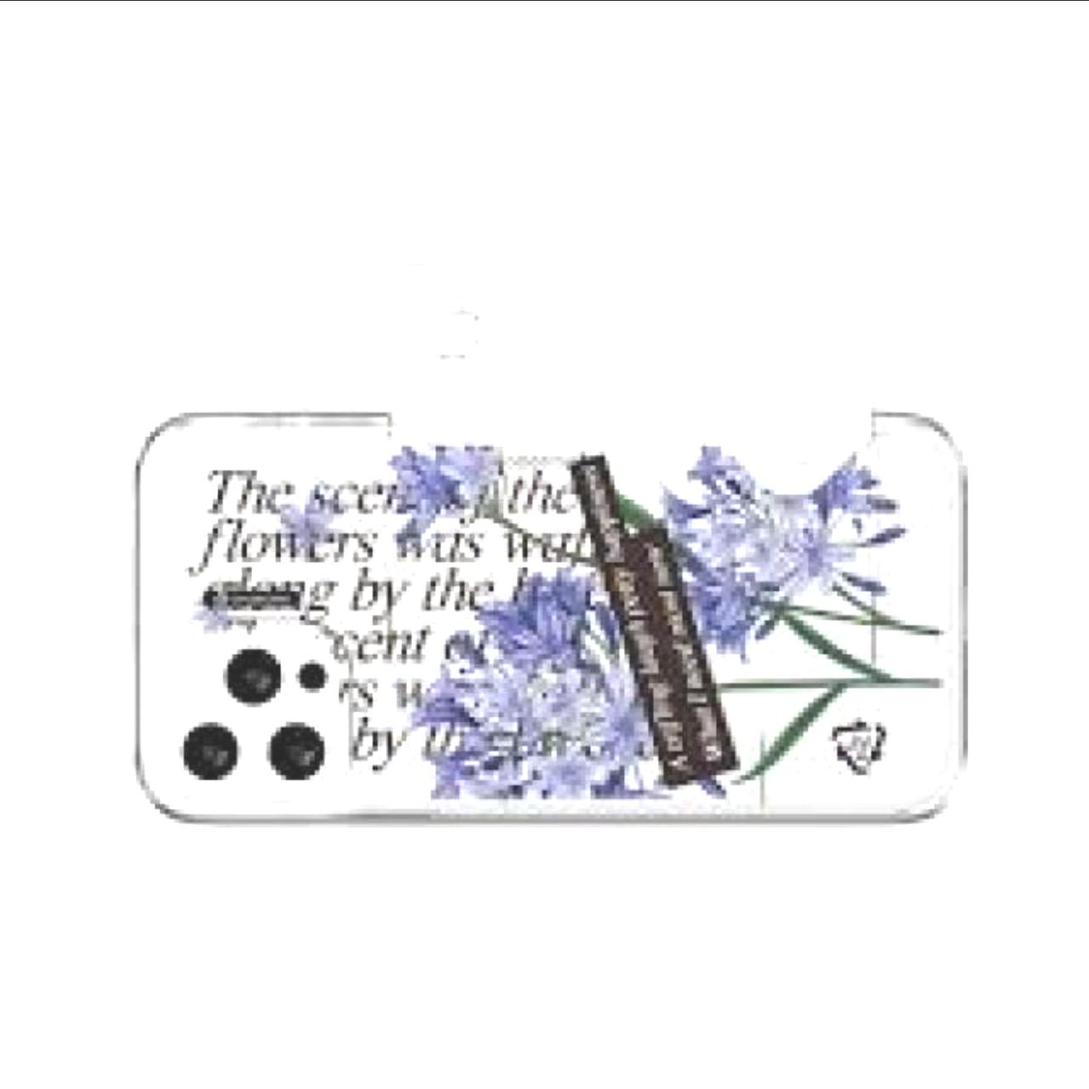phone: (140, 405, 965, 825)
